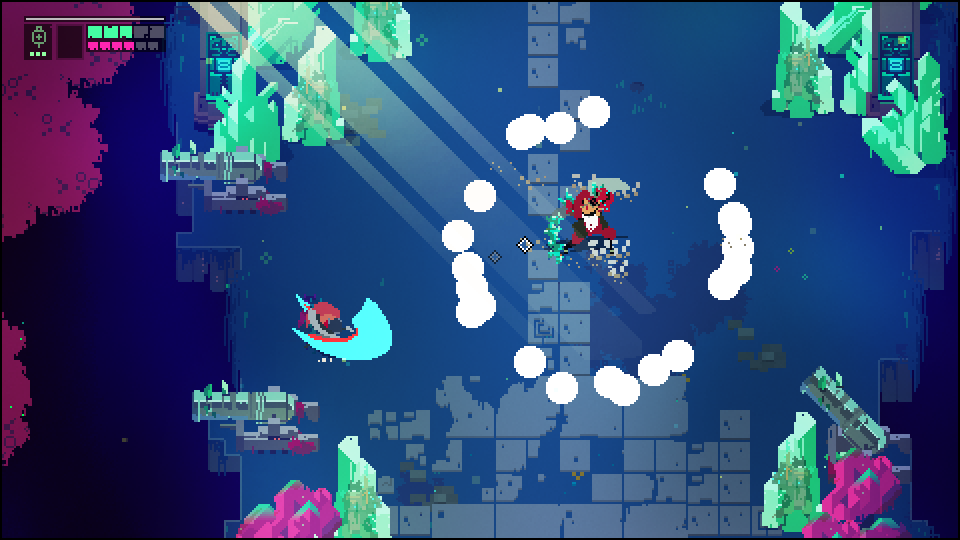hanged_man: (543, 174, 630, 277)
player: (287, 285, 395, 362)
